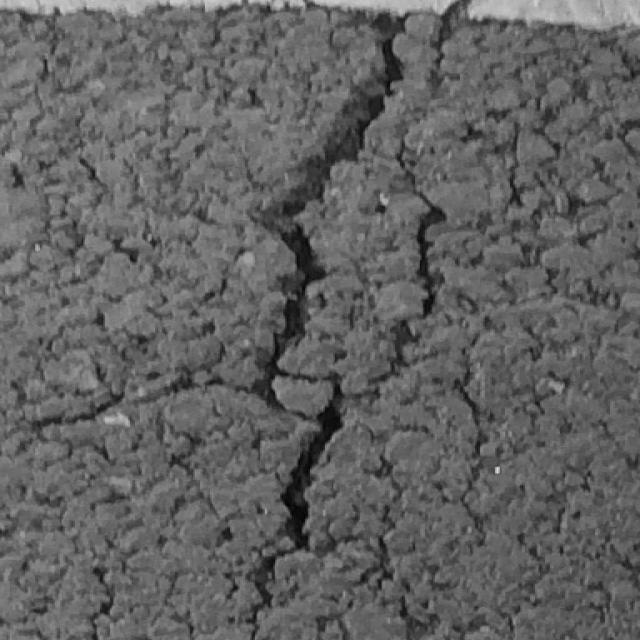SurfaceCrack: (195, 4, 518, 639)
